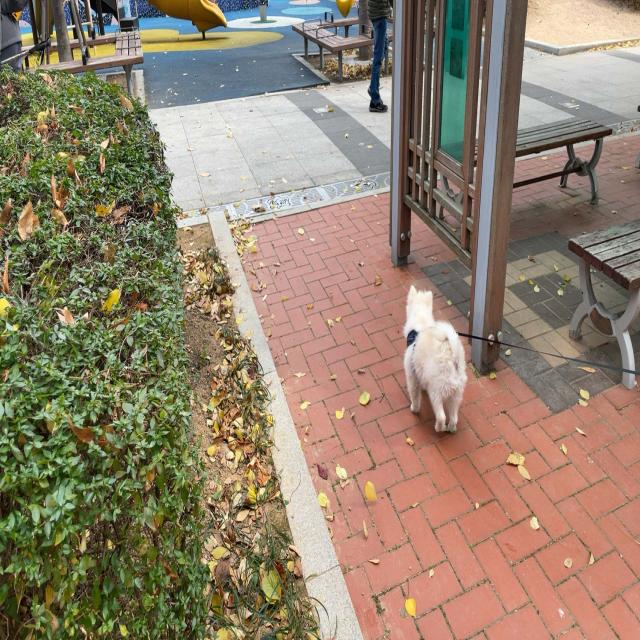Dog: (404, 283, 466, 433)
